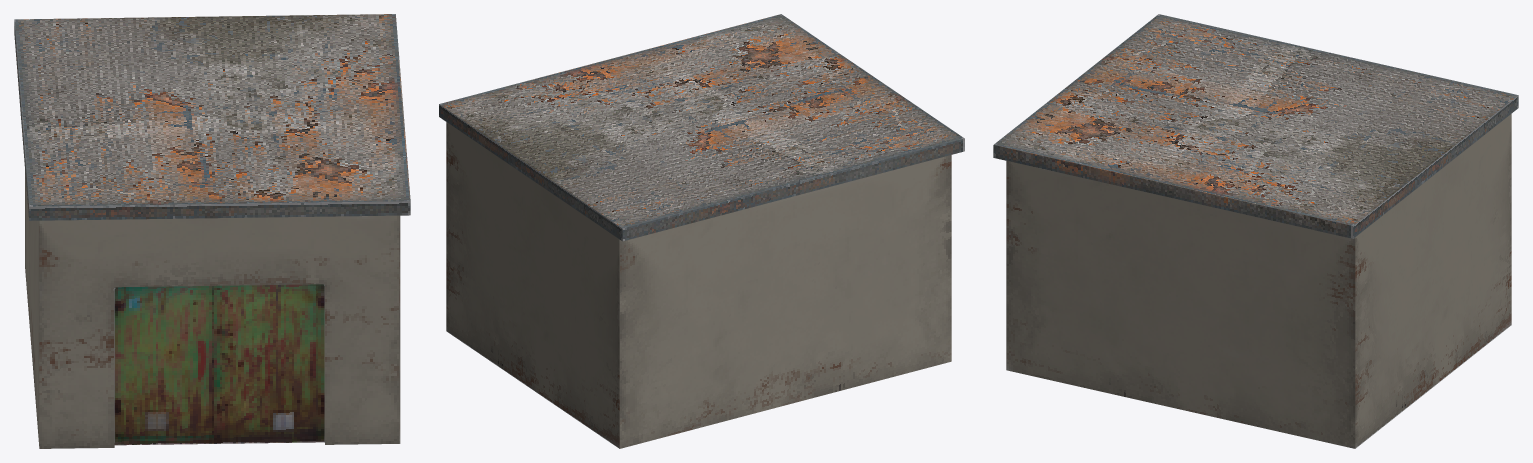
The model's file is garage_psx.glb.
3 views of the same model, side by side, from view 1: azimuth 30°, elevation 25°; view 2: azimuth 150°, elevation 25°; view 3: azimuth 270°, elevation 25° (orthographic). The views are drawn at different scales.
Size of the model in its own units: 4.25 by 2.12 by 4.45.
Materials: 1 (1 with a texture image).
